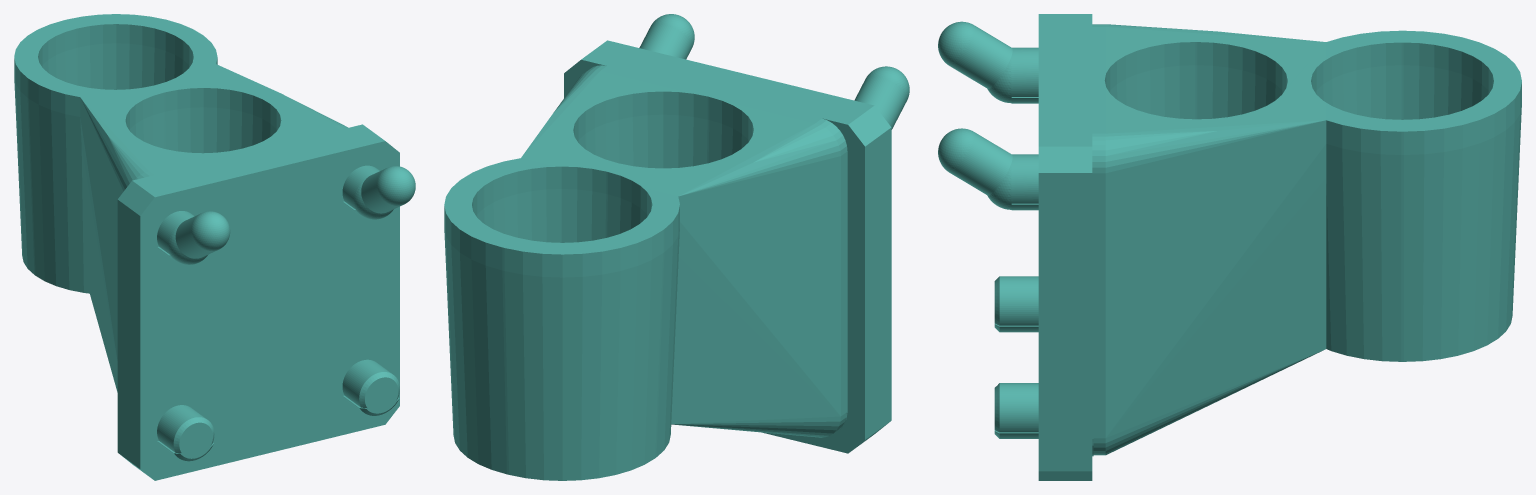
Rendered from part-pegstr-p05__v2__pegstr-p05-mt2-holder__installed__fit-9c7be3cc78.glb.
3 renders of one model, left to right at view 1: azimuth 30°, elevation 25°; view 2: azimuth 150°, elevation 25°; view 3: azimuth 270°, elevation 25°, orthographic. The views are drawn at different scales.
Visible parts, largest first — view 1: Actual holder mesh; view 2: Actual holder mesh; view 3: Actual holder mesh.
Boxes of the visible parts, x1=… form: Actual holder mesh: x1=14, y1=14, x2=415, y2=480; Actual holder mesh: x1=444, y1=14, x2=909, y2=480; Actual holder mesh: x1=938, y1=14, x2=1521, y2=480.
Bounding box in the file's own units: 0.0356 × 0.0374 × 0.0587.
